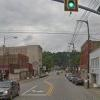Traffic light: (60, 0, 93, 21)
